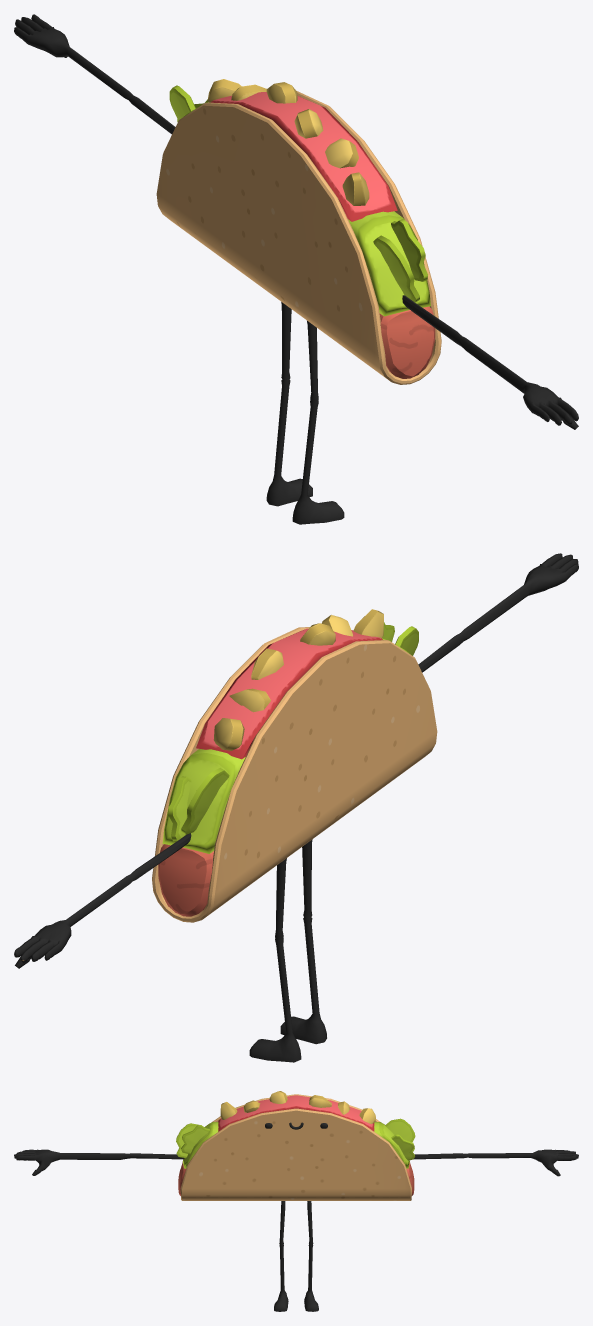
The model's file is CoolTaco.fbx.
The picture shows the model from 3 angles, top to bottom: view 1: azimuth 30°, elevation 25°; view 2: azimuth 150°, elevation 25°; view 3: azimuth 270°, elevation 25°; orthographic projection. The views are drawn at different scales.
Visible parts, largest first — view 1: _100Avatars_162_CoolTaco; view 2: _100Avatars_162_CoolTaco; view 3: _100Avatars_162_CoolTaco.
Part boxes in pixels (x1,y1,x2,y2): _100Avatars_162_CoolTaco: (14,14,578,524); _100Avatars_162_CoolTaco: (14,553,578,1062); _100Avatars_162_CoolTaco: (14,1091,578,1311).
Size of the model in its own units: 0.427 by 2.54 by 6.13.
1 material, 1 textured.
